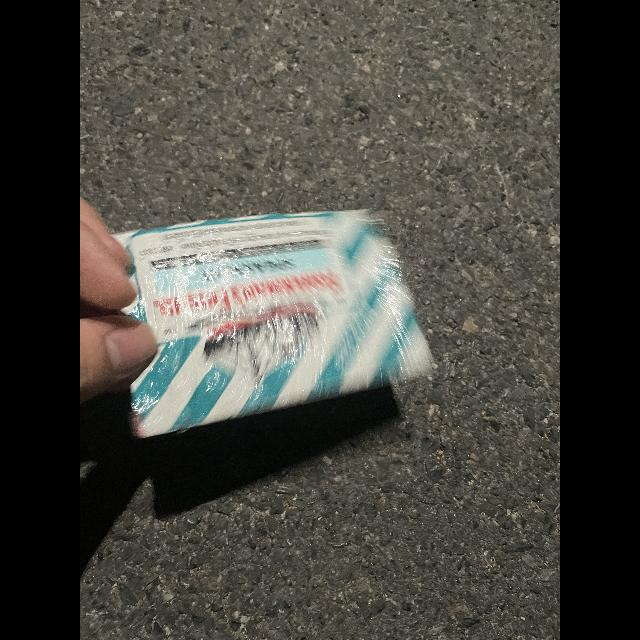snack_bag: (98, 196, 456, 448)
